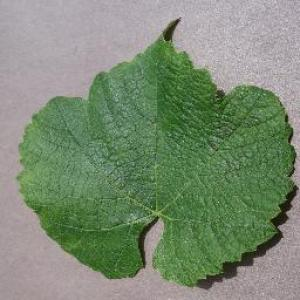Folha: (16, 15, 296, 287)
